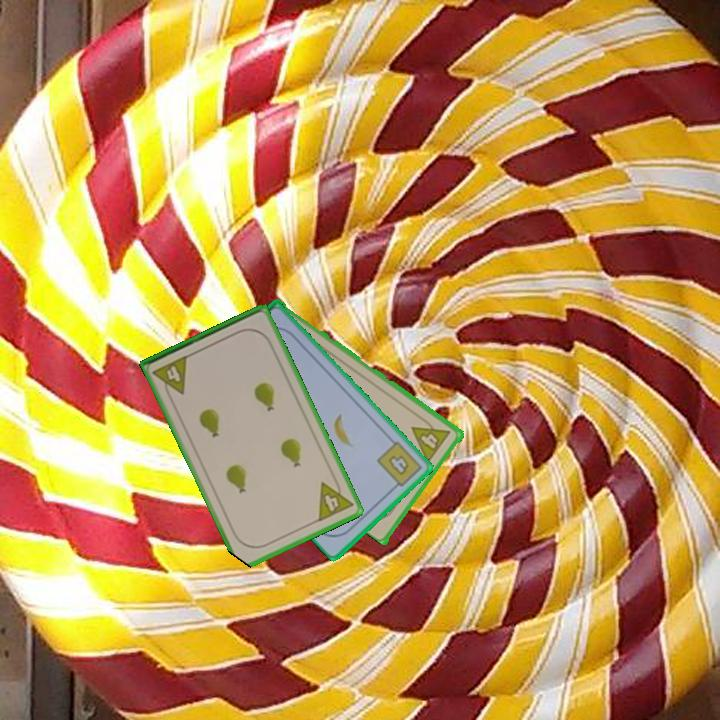4b: (373, 438, 425, 493)
4p: (408, 413, 454, 465), (314, 473, 356, 525), (149, 352, 191, 402)
